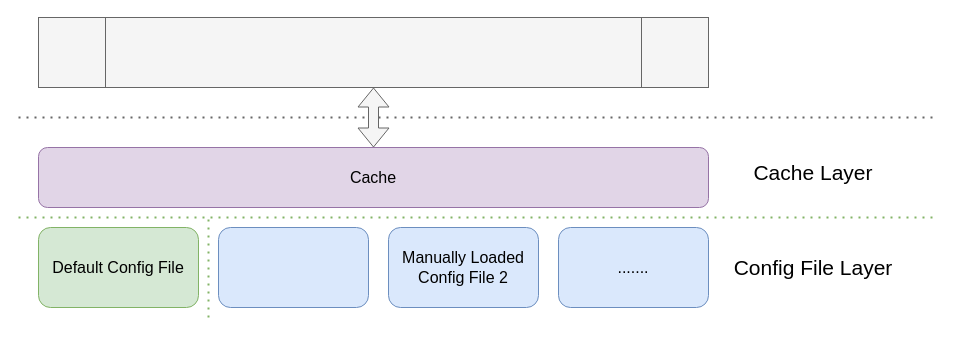
Some shapes in this 957 by 337 pixel diagram are drawn without their labels. The centre of each missing label's shape, as x and y in pixels:
"Manually Loaded Config File 1" goes at [293,267].
"Your Application" goes at [373,52].
